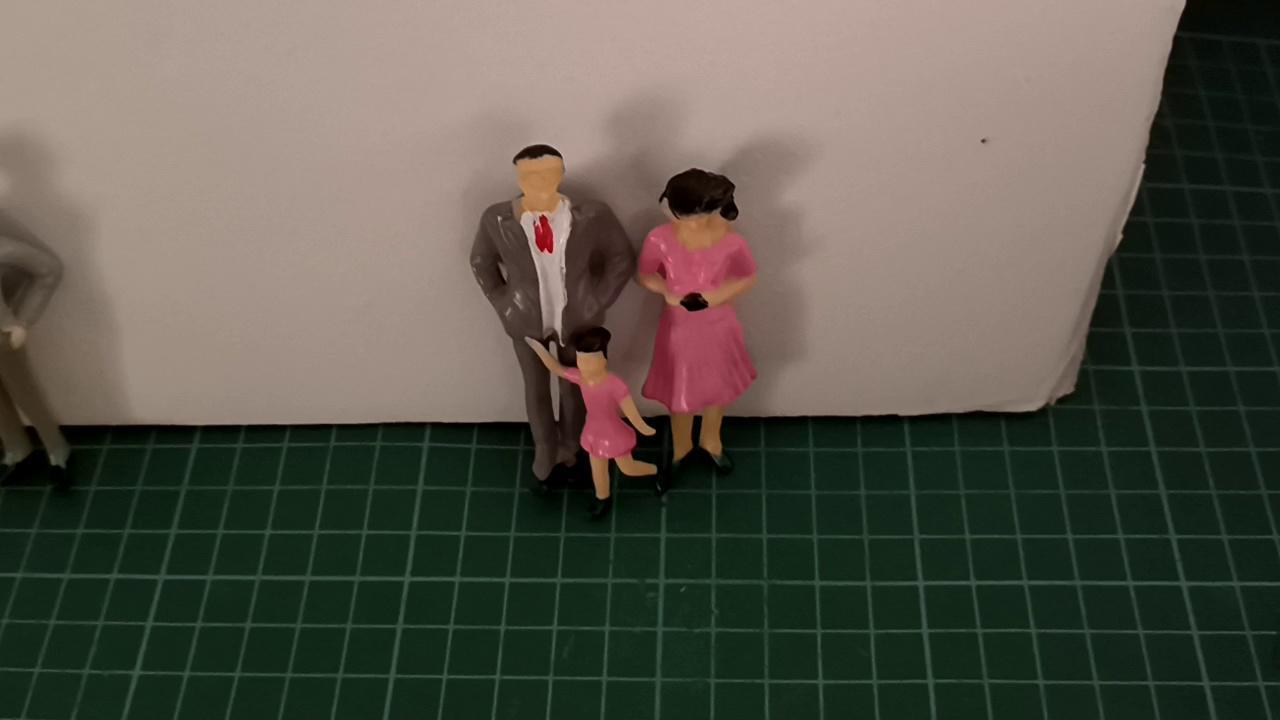human: (463, 116, 634, 511), (633, 160, 766, 488), (523, 323, 678, 528)
